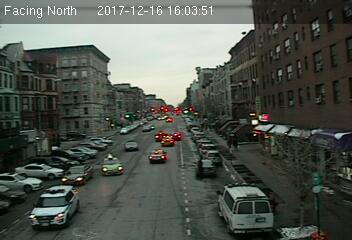car: (60, 164, 92, 184), (100, 154, 124, 174), (195, 159, 217, 175), (203, 150, 223, 165), (148, 150, 167, 162), (123, 140, 139, 152), (161, 136, 175, 147), (171, 132, 182, 141)
police: (215, 182, 277, 235), (28, 184, 80, 229)
